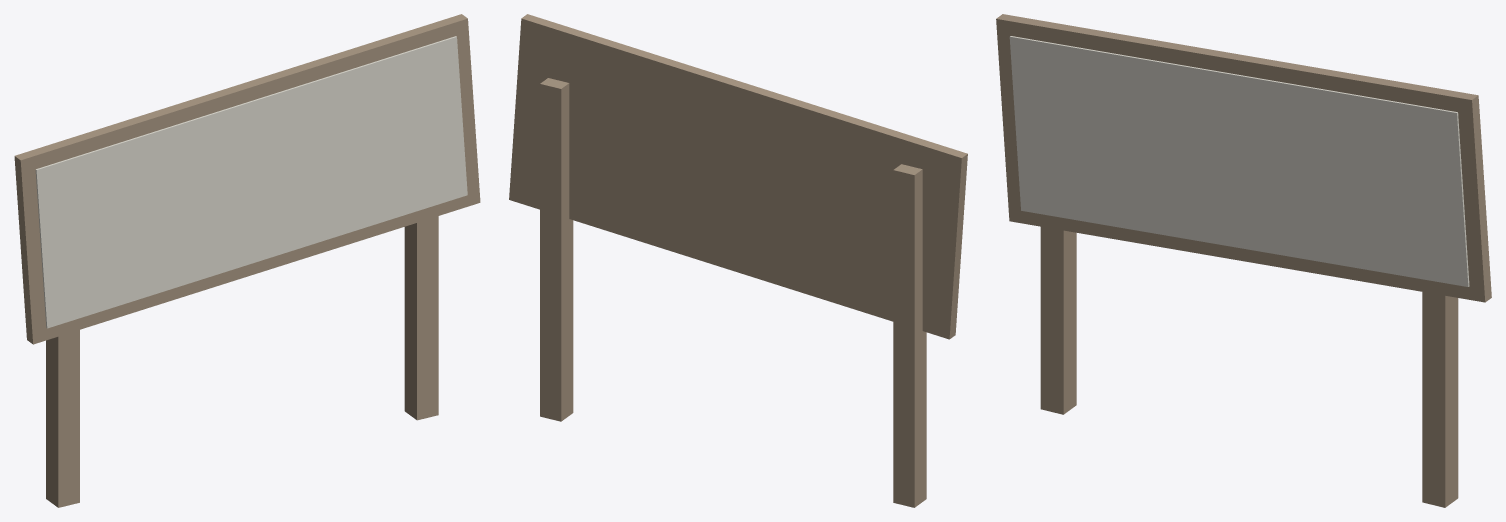
File: town_sign.glb
3 renders of one model, left to right at view 1: azimuth 30°, elevation 25°; view 2: azimuth 150°, elevation 25°; view 3: azimuth 330°, elevation 25°, orthographic. The views are drawn at different scales.
Parts seen in each view (by area): view 1: TownSign; view 2: TownSign; view 3: TownSign.
Part boxes in pixels (x1,y1,x2,y2): TownSign: (14,14,480,507); TownSign: (509,14,967,507); TownSign: (996,14,1491,507).
Size of the model in its own units: 2.56 by 2.09 by 0.155.
